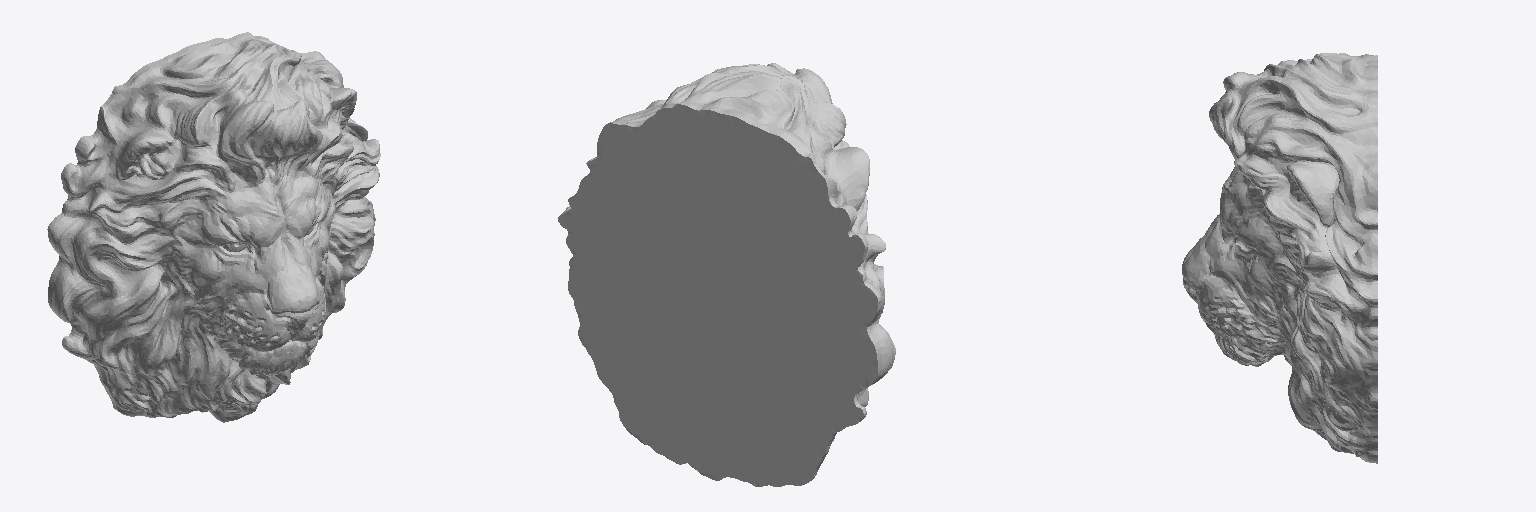
The model's file is lion.obj.
The picture shows the model from 3 angles: view 1: azimuth 30°, elevation 25°; view 2: azimuth 150°, elevation 25°; view 3: azimuth 270°, elevation 25°; orthographic projection.
Bounding box in the file's own units: 21.87 × 24.99 × 11.56.